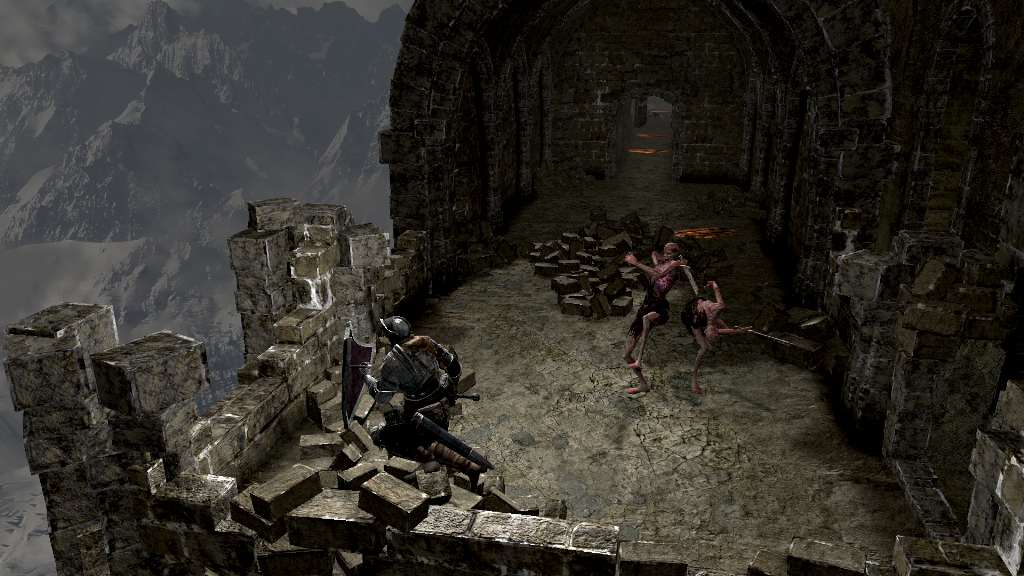hollow: (621, 241, 686, 394), (685, 279, 753, 396)
player: (342, 315, 491, 491)
